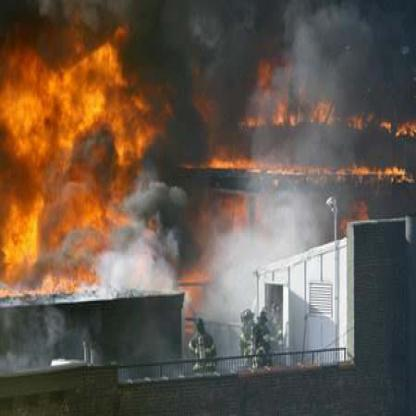fire: (1, 44, 152, 288), (247, 57, 413, 137), (196, 151, 411, 183)
